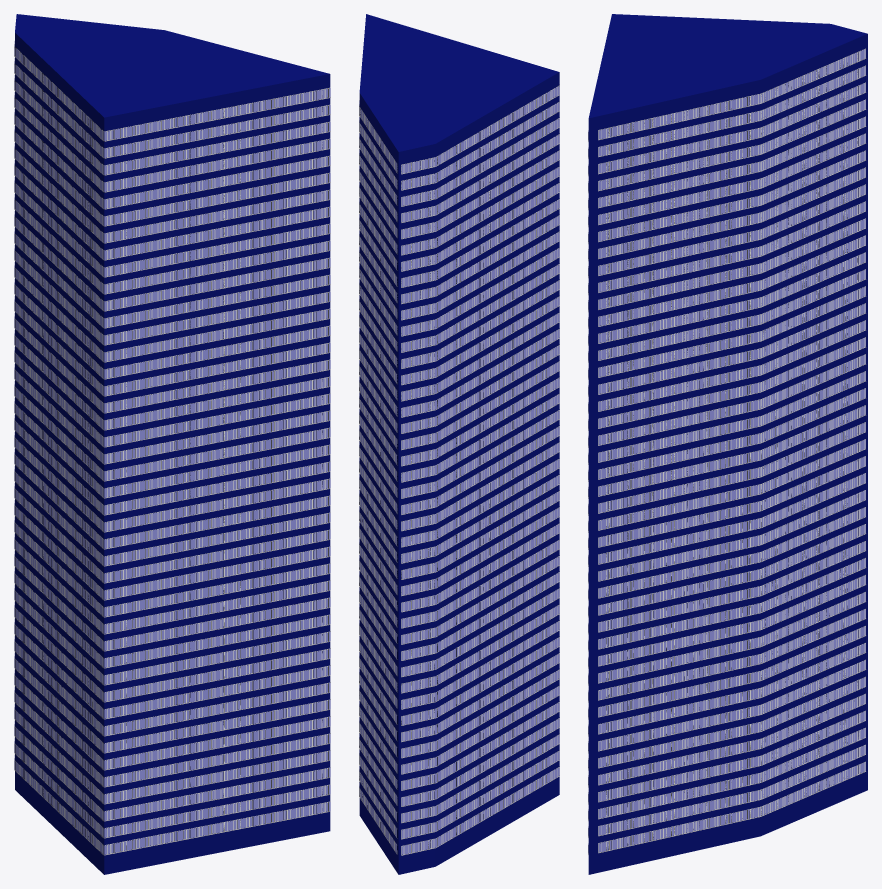
File: OneHalifax.fbx
3 renders of one model, left to right at view 1: azimuth 30°, elevation 25°; view 2: azimuth 150°, elevation 25°; view 3: azimuth 270°, elevation 25°, orthographic. The views are drawn at different scales.
Visible parts, largest first — view 1: OneHalifax, Window, Window.002; view 2: OneHalifax, Window.002, Window.001; view 3: Window.001, OneHalifax.
Boxes of the visible parts, x1,y1,x2,y2 form: OneHalifax: [15, 14, 330, 874]; Window: [104, 87, 330, 855]; Window.002: [14, 41, 103, 854]; OneHalifax: [359, 14, 559, 874]; Window.002: [401, 85, 559, 855]; Window.001: [359, 100, 397, 854]; Window.001: [598, 48, 865, 853]; OneHalifax: [588, 14, 867, 874].
Size of the model in its own units: 4456 by 15000 by 5028.
